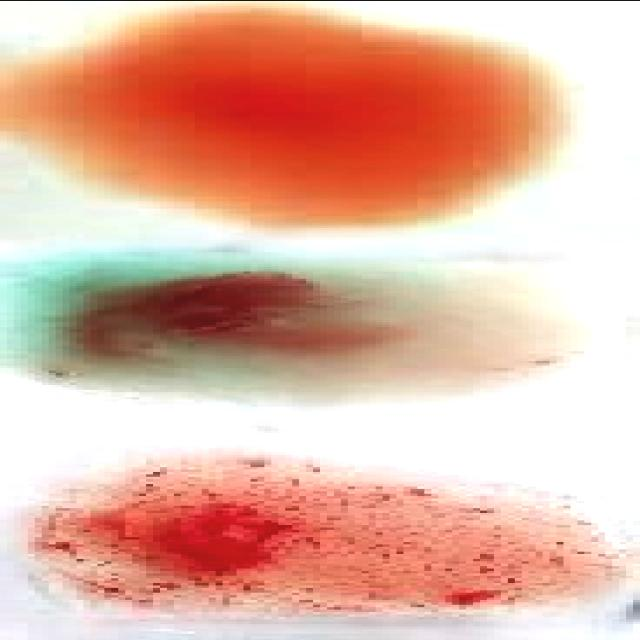D: (35, 472, 614, 622)
